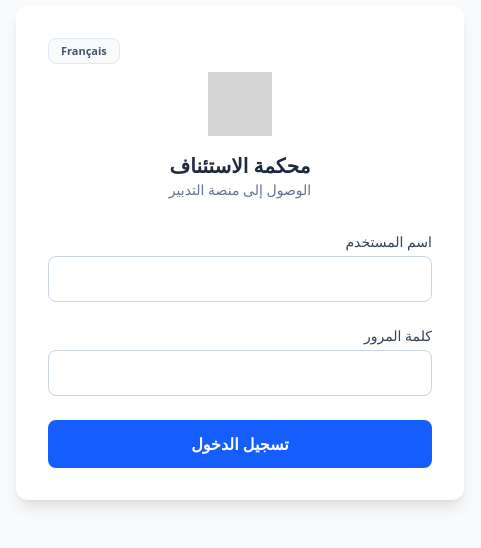
Test: Application E2E Tests › 1. Login Page › should show error on invalid login
Type "invalid_user" into the field at (240, 279), box [48, 256, 432, 302]
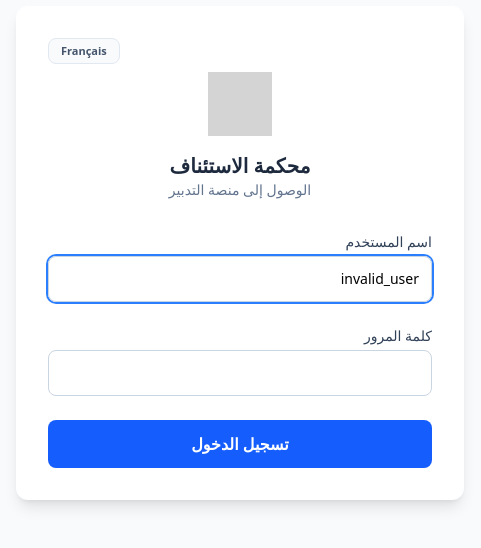
Type "wrong_password" into the password field at (240, 373), box [48, 350, 432, 396]
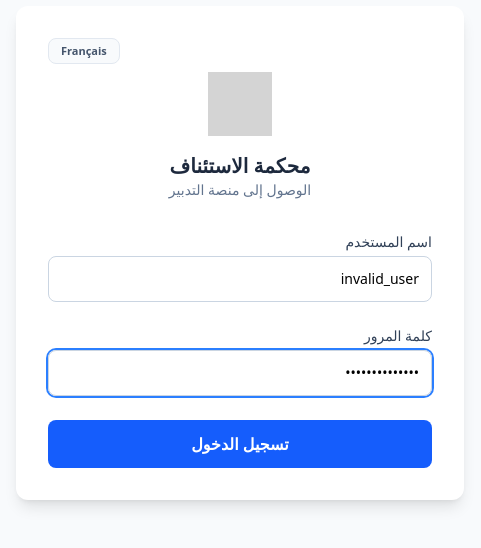
Click the submit button at (240, 444), box [48, 420, 432, 468]
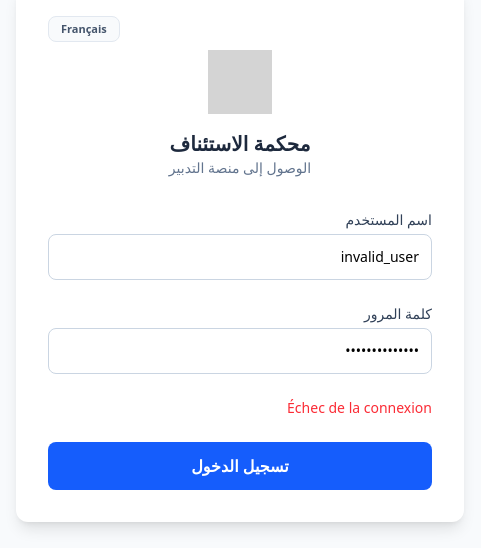
Result: the text "Échec de la connexion" is shown at [287, 398, 432, 417]
